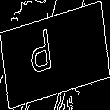P_S: (41, 26, 69, 84)
